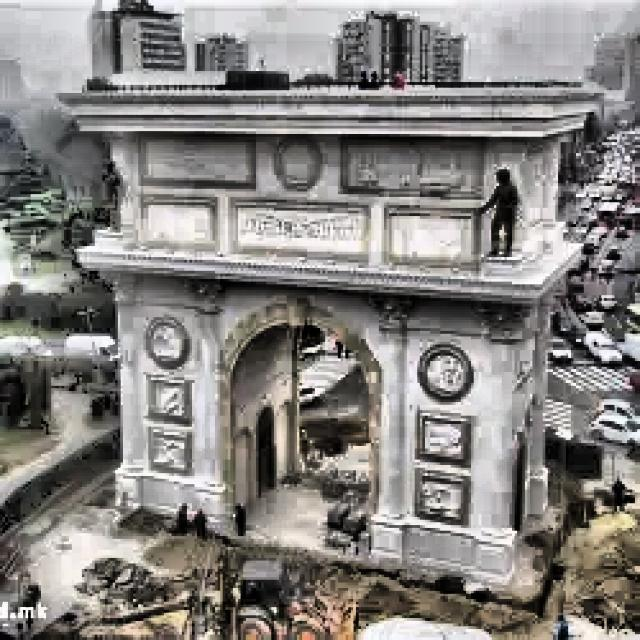triumphal arch: (40, 74, 567, 600)
